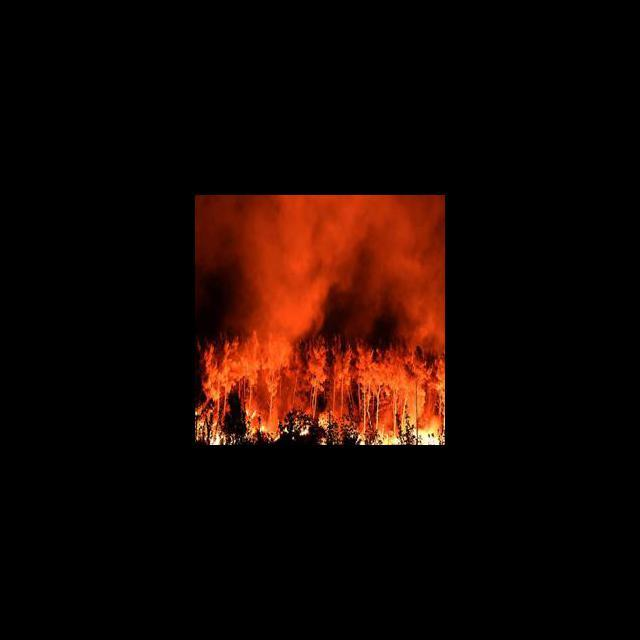Fire: (197, 317, 444, 444)
